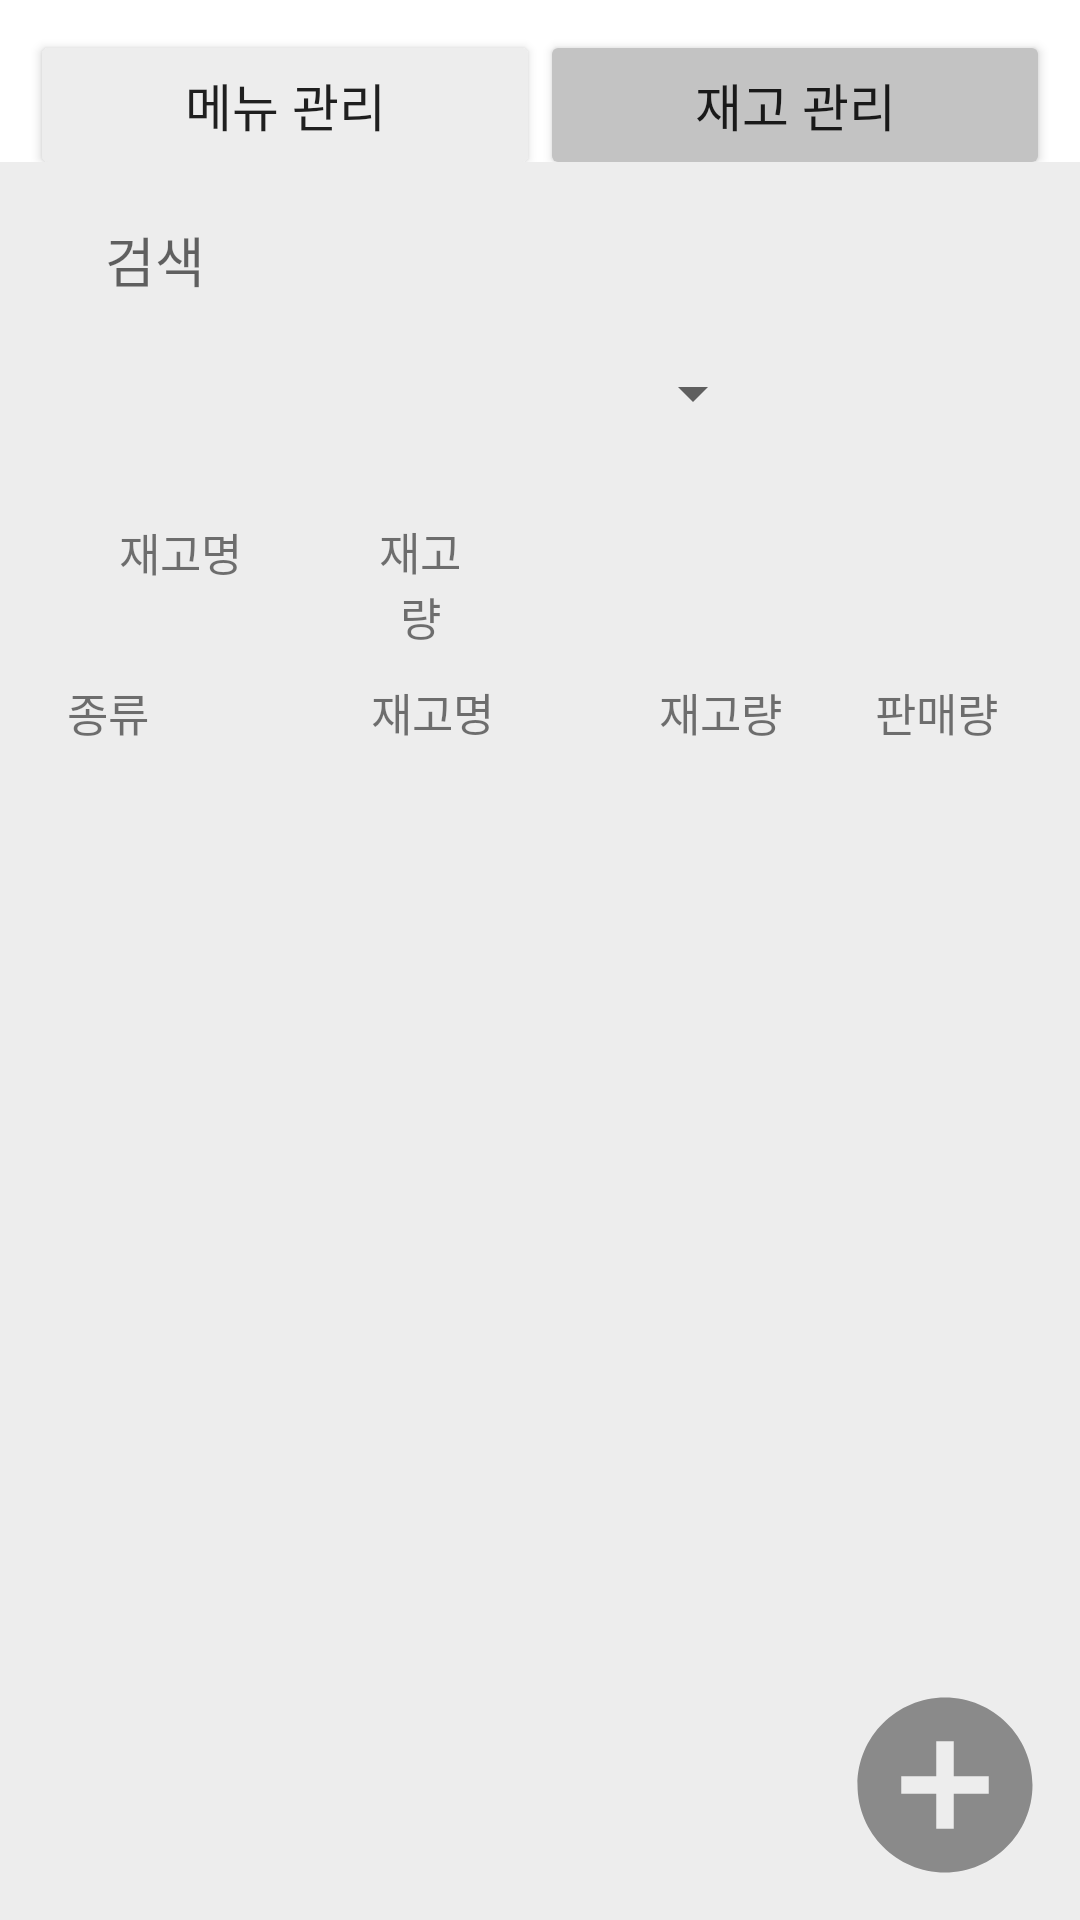

Where icons sit on this 1080*1920 app screen, as (x1, y1, x2, y2):
add circle: (857, 1697, 1033, 1873)
